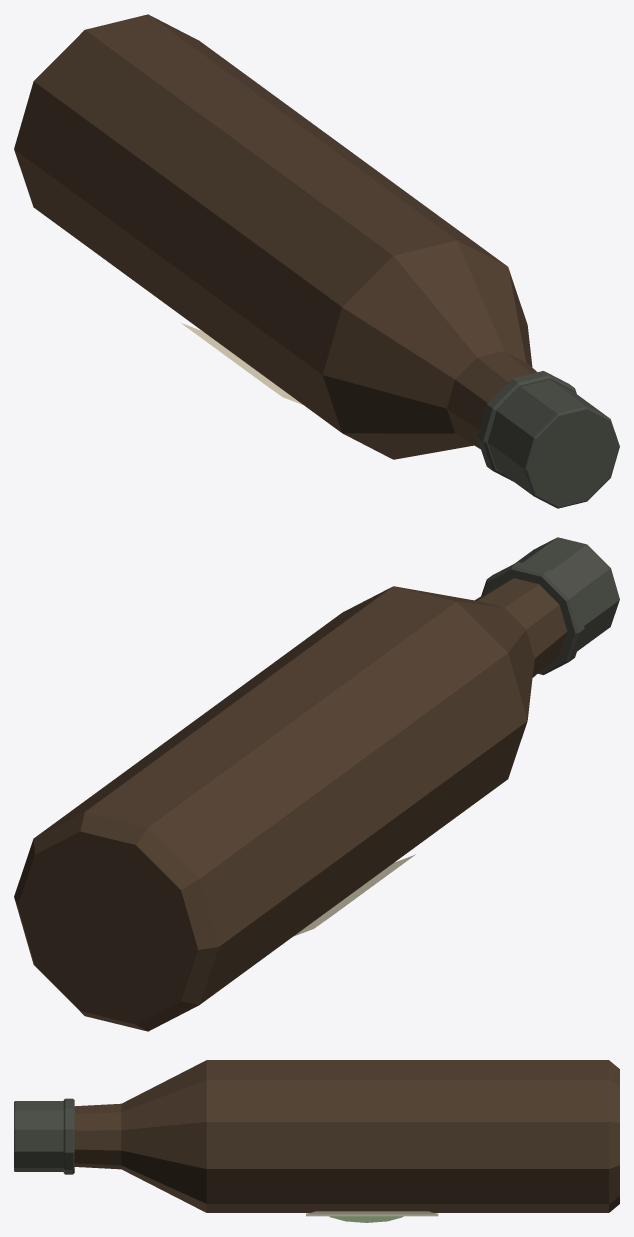
File: kombucha.glb
The picture shows the model from 3 angles, top to bottom: view 1: azimuth 30°, elevation 25°; view 2: azimuth 150°, elevation 25°; view 3: azimuth 270°, elevation 25°; orthographic projection. The views are drawn at different scales.
Visible parts, largest first — view 1: kombucha; view 2: kombucha; view 3: kombucha.
Part boxes in pixels (bbox=[...]): kombucha: bbox=[14, 14, 619, 508]; kombucha: bbox=[14, 537, 619, 1031]; kombucha: bbox=[14, 1060, 619, 1222].
Bounding box in the file's own units: 0.056 × 0.0576 × 0.22.
